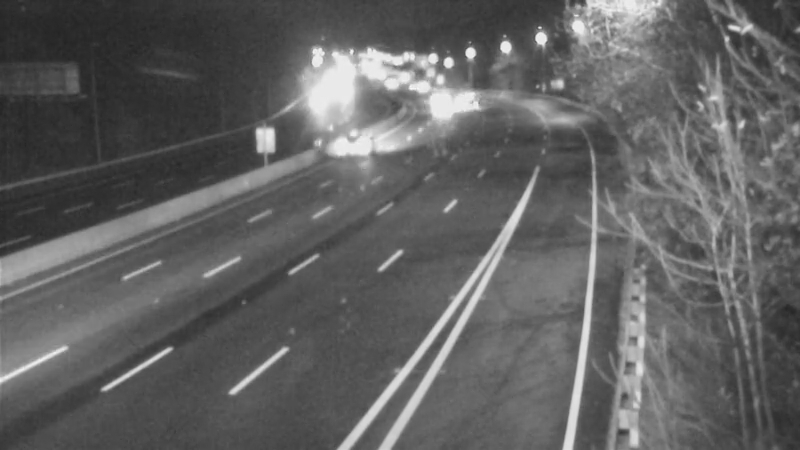vehicle: (418, 85, 468, 135), (334, 117, 384, 167), (297, 79, 347, 129)
